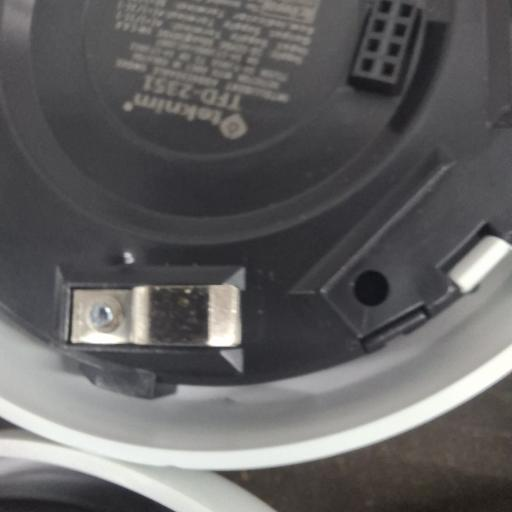yaysiz: (64, 282, 244, 349)
